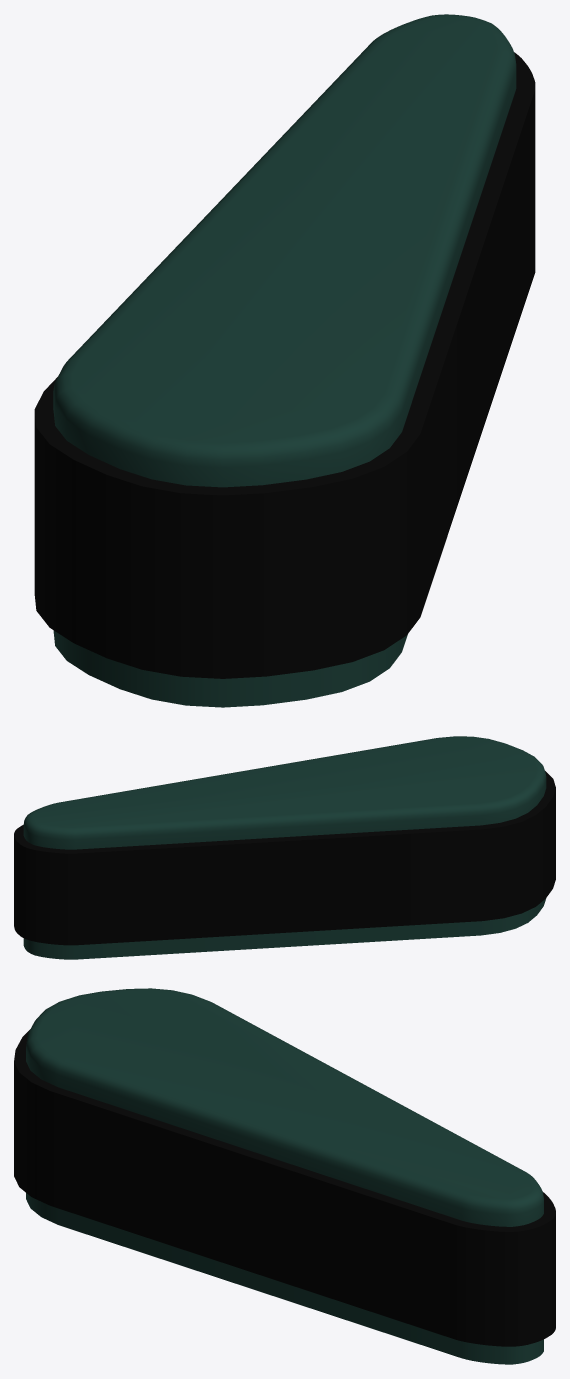
File: Flipperv2b.fbx
3 views of the same model, one above another, from view 1: azimuth 30°, elevation 25°; view 2: azimuth 150°, elevation 25°; view 3: azimuth 270°, elevation 25° (orthographic). The views are drawn at different scales.
Parts seen in each view (by area): view 1: Box017; view 2: Box017; view 3: Box017.
Boxes of the visible parts, bbox=[...] form: Box017: bbox=[34, 14, 535, 707]; Box017: bbox=[14, 736, 555, 959]; Box017: bbox=[14, 988, 555, 1364].
Bounding box in the file's own units: 7.34 × 2.4 × 7.34.
